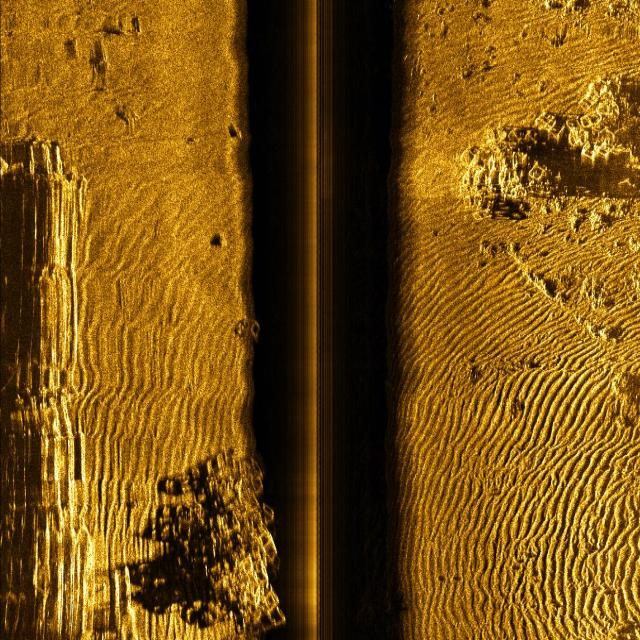artificial reef: (458, 63, 629, 231), (166, 469, 300, 640), (230, 308, 269, 362)
